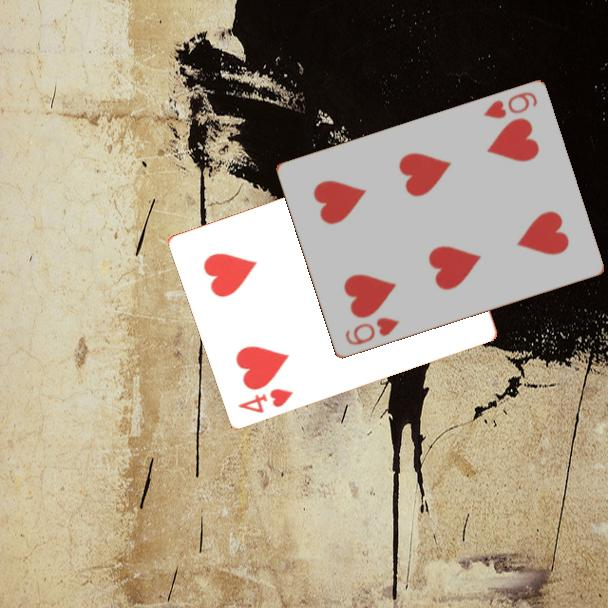h04: (235, 384, 297, 416)
h06: (341, 314, 402, 349), (480, 89, 540, 122)
